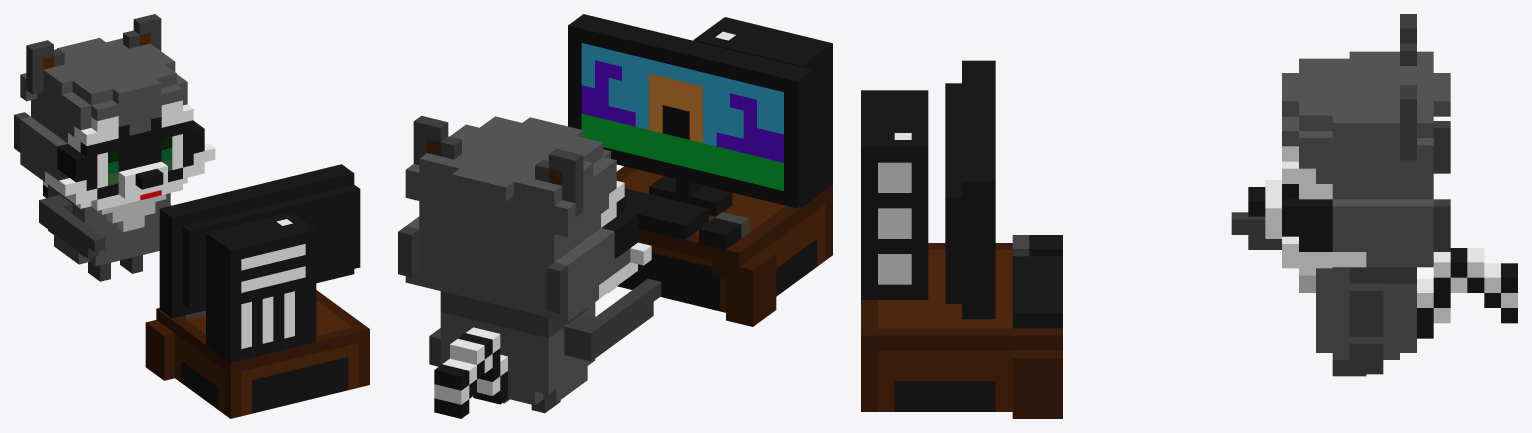
The model's file is coony.glb.
3 renders of one model, left to right at view 1: azimuth 30°, elevation 25°; view 2: azimuth 150°, elevation 25°; view 3: azimuth 270°, elevation 25°, orthographic. The views are drawn at different scales.
Parts seen in each view (by area): view 1: Untitled; view 2: Untitled; view 3: Untitled.
Boxes of the visible parts, x1,y1,x2,y2 form: Untitled: (14, 14, 369, 418); Untitled: (398, 14, 832, 418); Untitled: (861, 14, 1517, 418).
Bounding box in the file's own units: 1.7 × 2 × 3.9.
1 material, 1 textured.
